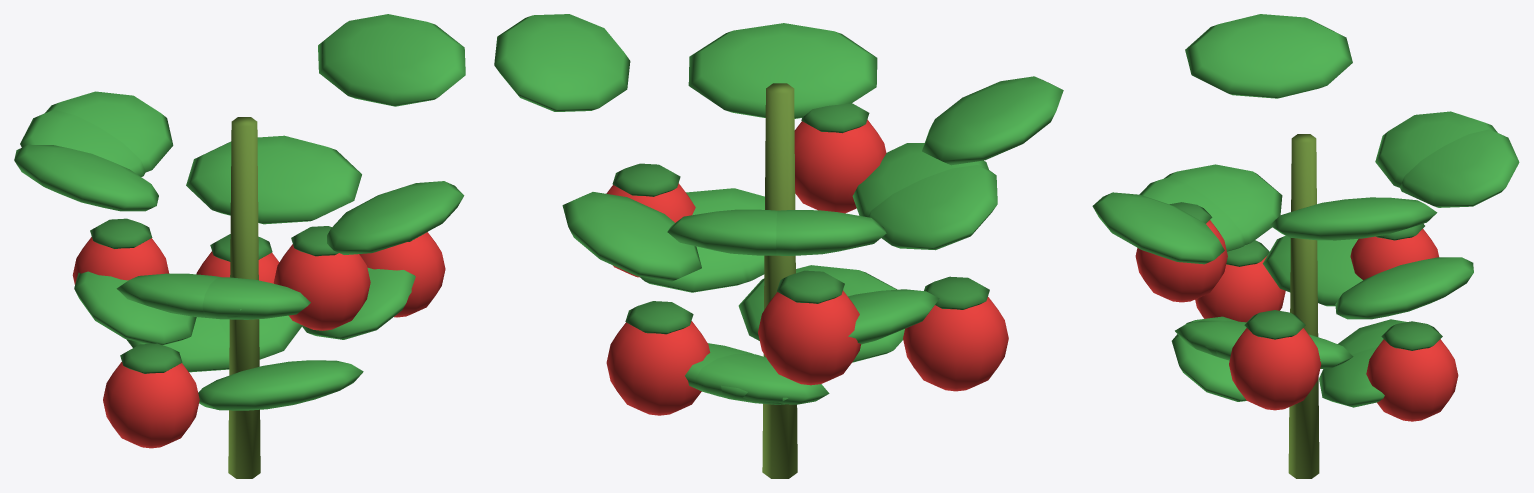
3 views of the same model, side by side, from view 1: azimuth 30°, elevation 25°; view 2: azimuth 150°, elevation 25°; view 3: azimuth 270°, elevation 25° (orthographic). The views are drawn at different scales.
Visible parts, largest first — view 1: Leaf.003, Fruit.003, Stem.003; view 2: Leaf.003, Fruit.003, Stem.003; view 3: Leaf.003, Fruit.003, Stem.003.
Boxes of the visible parts, x1,y1,x2,y2 form: Leaf.003: (14,14,465,410); Fruit.003: (72,218,445,448); Stem.003: (228,117,260,478); Leaf.003: (494,14,1063,404); Fruit.003: (606,103,1008,415); Stem.003: (762,83,797,478); Leaf.003: (1092,14,1519,407); Fruit.003: (1135,202,1458,421); Stem.003: (1288,134,1319,478).
Size of the model in its own units: 0.8141 by 0.6399 by 0.6932.
